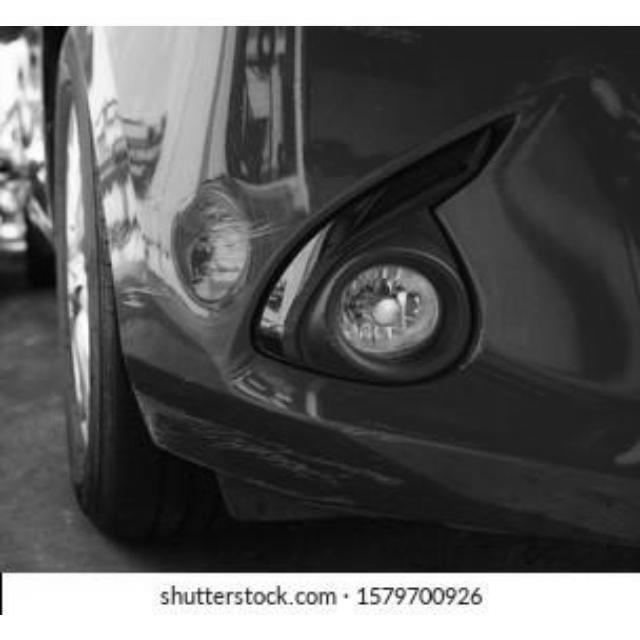front-bumper-dent: (103, 30, 627, 505)
